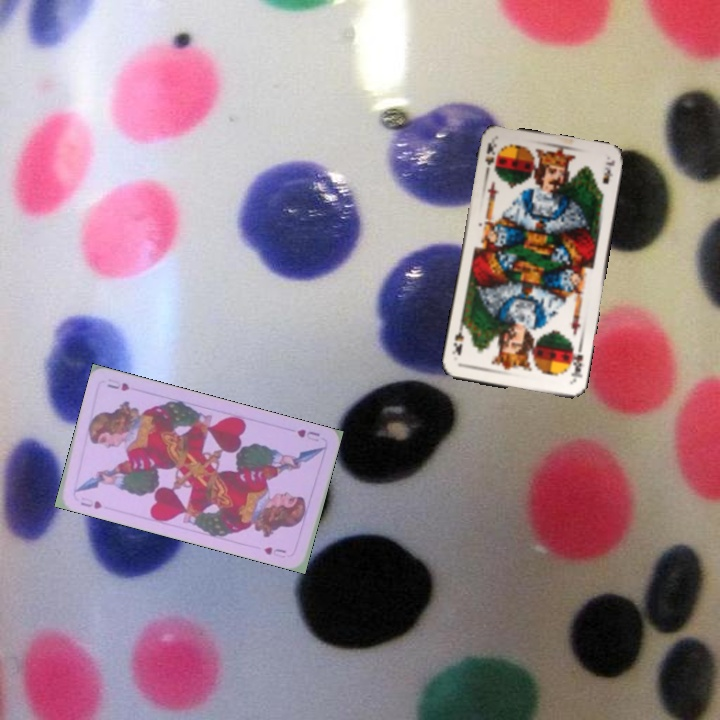HU: (76, 491, 105, 511), (293, 425, 322, 444)
SK: (565, 343, 586, 384), (480, 138, 499, 179)
